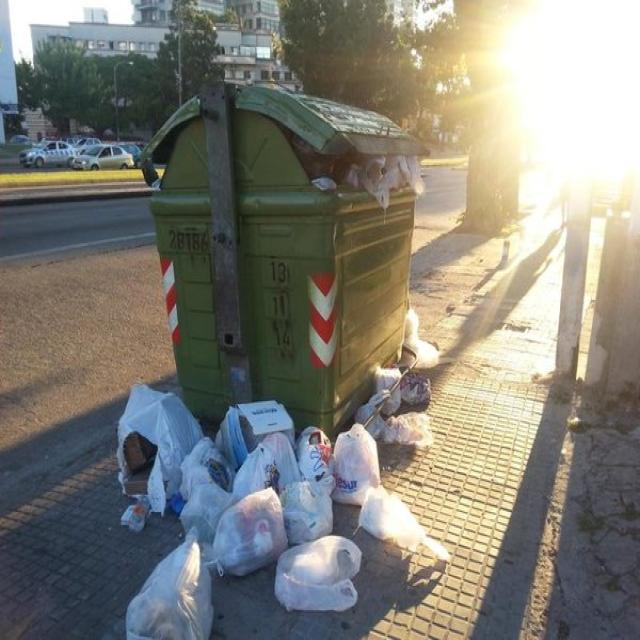garbage: (101, 377, 438, 638), (311, 146, 428, 194)
